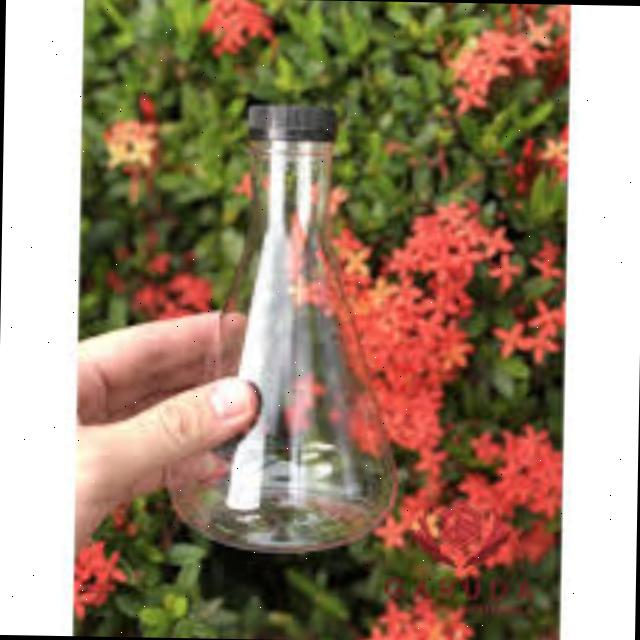trash: (166, 101, 414, 560)
